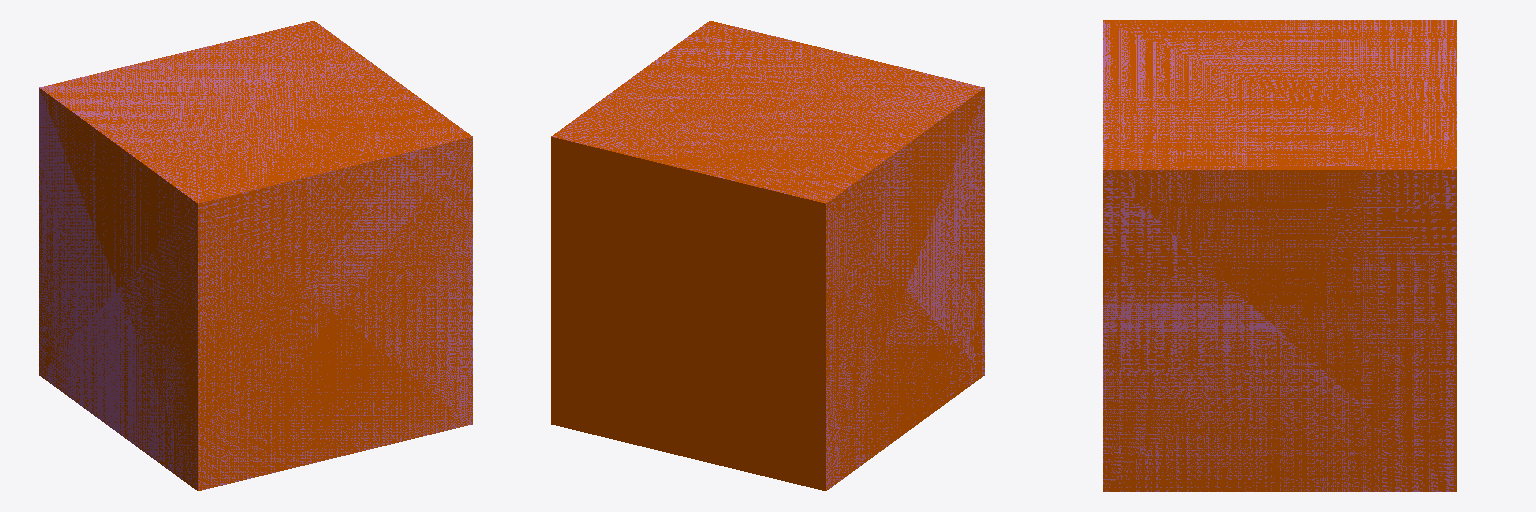
robot.urdf — mechROS:
<?xml version="1.0" ?>
<!-- =================================================================================== -->
<!-- |    This document was autogenerated by xacro from mechROS.xacro                  | -->
<!-- |    EDITING THIS FILE BY HAND IS NOT RECOMMENDED                                 | -->
<!-- =================================================================================== -->
<robot name="mechROS" xmlns:xacro="http://www.ros.org/wiki/xacro">
  <!-- PROPERTIES & MACROS -->
  <!-- ////////////////////////////////////////////////// -->
  <!-- MATERIALS -->
  <!-- ////////////////////////////////////////////////// -->
  <material name="camera_color">
    <color rgba=".01 1 .5 1"/>
  </material>
  <!--<material name="tire_texture">-->
  <!--    <texture filename="package://robot_description/textures/rubber.jpg" />-->
  <!--</material>-->
  <!-- Import files -->
  <material name="tire_texture">
    <texture filename="file://[local-path]/catkin_ws/src/mech_ros/robot_description/textures/rubber.jpg"/>
  </material>
  <!-- skid steering plugin -->
  <!--	<xacro:macro name="skid_steering" params="broadcastOdomTF prefix wheelSeparation wheelDiameter">-->
  <!--    <gazebo>-->
  <!--      <plugin name="skid_steer_drive_controller" filename="libgazebo_ros_skid_steer_drive.so">-->
  <!--         <robotNamespace>/mechROS</robotNamespace>-->
  <!--		    <updateRate>100.0</updateRate>-->
  <!--		    <leftFrontJoint>front_left_wheel_joint</leftFrontJoint>  -->
  <!--		    <rightFrontJoint>front_right_wheel_joint</rightFrontJoint>-->
  <!--		    <leftRearJoint>back_left_wheel_joint</leftRearJoint>-->
  <!--		    <rightRearJoint>back_right_wheel_joint</rightRearJoint>-->
  <!--		    <wheelSeparation>${wheelSeparation}</wheelSeparation>-->
  <!--		    <wheelDiameter>${wheelDiameter}</wheelDiameter>-->
  <!--		    <robotBaseFrame>${prefix}base_link</robotBaseFrame>-->
  <!--		    <torque>50</torque>-->
  <!--		    <commandTopic>control/cmd_vel</commandTopic>-->
  <!--		    <odometryTopic>control/odom</odometryTopic>-->
  <!--		    <odometryFrame>/odom</odometryFrame>-->
  <!--		    <odometryFrame>${prefix}odom</odometryFrame>-->
  <!--		    <broadcastTF>${broadcastOdomTF}</broadcastTF>-->
  <!--      </plugin>-->
  <!--    </gazebo>-->
  <!--  </xacro:macro>-->
  <!--  -->
  <!--  <xacro:macro name="omni_steering" params="prefix publish_tf">-->
  <!--		<gazebo>-->
  <!--	    <plugin name="omni_steering" filename="libgazebo_ros_planar_move.so">-->
  <!--	      <commandTopic>robotnik_base_control/cmd_vel</commandTopic>  -->
  <!--	      <odometryTopic>robotnik_base_control/odom</odometryTopic>-->
  <!--	      <odometryFrame>${prefix}odom</odometryFrame>-->
  <!--	      <odometryRate>50.0</odometryRate>-->
  <!--	      <robotBaseFrame>${prefix}base_footprint</robotBaseFrame>-->
  <!--	      <publishTF>${publish_tf}</publishTF>-->
  <!--	    </plugin>-->
  <!--	  </gazebo>-->
  <!--  </xacro:macro>-->
  <!--  <xacro:macro name="ros_force_based_move" params="publish_tf prefix">-->
  <!--	  <gazebo>-->
  <!--		 <plugin name="ros_force_based_move" filename="libgazebo_ros_force_based_move.so">-->
  <!--			 <commandTopic>robotnik_base_control/cmd_vel</commandTopic>  -->
  <!--			 <odometryTopic>robotnik_base_control/odom</odometryTopic>-->
  <!--	         <odometryFrame>${prefix}odom</odometryFrame>-->
  <!--			 <yaw_velocity_p_gain>10000.0</yaw_velocity_p_gain>-->
  <!--			 <x_velocity_p_gain>10000.0</x_velocity_p_gain>-->
  <!--			 <y_velocity_p_gain>10000.0</y_velocity_p_gain>-->
  <!--			 <robotBaseFrame>${prefix}base_footprint</robotBaseFrame>-->
  <!--			 <odometryRate>50.0</odometryRate>-->
  <!--			 <publishOdometryTf>${publish_tf}</publishOdometryTf>-->
  <!--		 </plugin>-->
  <!--	  </gazebo>-->
  <!--  </xacro:macro>-->
  <!--  <gazebo reference="base_footprint">-->
  <!--    <material>Gazebo/Green</material>-->
  <!--  </gazebo>-->
  <!-- This file unifies all sensors that can be used on simulation, defined as xacro:macros -->
  <material name="gray_color">
    <color rgba=".75 .75 .75 1"/>
  </material>
  <!-- LINKS -->
  <!-- ////////////////////////////////////////////////// -->
  <link name="mechROS_base_link">
    <visual>
      <origin rpy="1.57079632679 0 1.57079632679" xyz="0.011 -0.060276 0"/>
      <geometry>
        <!--        <mesh filename="package://robot_description/meshes/Chassis.stl"/>-->
        <mesh filename="file://[local-path]/catkin_ws/src/mech_ros/robot_description/meshes/Chassis_10000.stl" scale="0.01 0.01 0.01"/>
        <!--	<cylinder length="0.2" radius="0.4" />-->
      </geometry>
      <material name="gray_color"/>
    </visual>
    <collision>
      <origin rpy="0 0 0" xyz="0.008 0 0.023"/>
      <geometry>
        <box size="0.242 0.11 0.085"/>
      </geometry>
    </collision>
    <!-- !!!!!!!!!!!!!!!!!!!-->
    <!--NASTAVAIT SPRAVNE INERTIAL-->
    <inertial>
      <origin xyz="0 0 0.02"/>
      <mass value="1.172"/>
      <!--	<mass value="1" />-->
      <inertia ixx="0.001568" ixy="0.0" ixz="0.0" iyy="0.003775" iyz="0.0" izz="0.00483"/>
    </inertial>
  </link>
  <gazebo reference="mechROS_base_link">
    <material>Gazebo/GreyGradientSky</material>
    <turnGravityOff>false</turnGravityOff>
  </gazebo>
  <!-- *************** -->
  <!-- Robots Elements -->
  <!-- *************** -->
  <!--WHEEL TIRE -->
  <joint name="front_right_wheel_joint" type="continuous">
    <parent link="mechROS_base_link"/>
    <child link="front_right_wheel"/>
    <origin rpy="0 0 0" xyz="0.063 -0.0735 0.018"/>
    <axis rpy="0 0 0" xyz="0 1 0"/>
    <limit effort="100" velocity="100"/>
    <joint_properties damping="0.0" friction="0.0"/>
  </joint>
  <link name="front_right_wheel">
    <visual>
      <origin rpy="1.57079632679 0 0" xyz="0 -0.003 0"/>
      <geometry>
        <mesh filename="file://[local-path]/catkin_ws/src/mech_ros/robot_description/meshes/Wheel_hub_simplified.stl" scale="0.01 0.01 0.01"/>
        <!--	<cylinder length="${wheel_height}" radius="${wheel_radius}" />-->
      </geometry>
      <material name="tire_texture"/>
    </visual>
    <collision>
      <origin rpy="1.57079632679 0 0" xyz="0 -0.003 0"/>
      <geometry>
        <cylinder length="0.031" radius="0.05"/>
      </geometry>
    </collision>
    <inertial>
      <mass value="0.079"/>
      <origin rpy="0 0 0" xyz="0 -0.003 0"/>
      <origin xyz="0 0 0"/>
      <!--        <inertia  ixx="0.000049044" ixy = "0" ixz = "0"-->
      <!--              iyy="0.000083396" iyz = "0"-->
      <!--              izz="0.000048972" />-->
      <inertia ixx="0.00069" ixy="0" ixz="0" iyy="0.0012057" iyz="0" izz="0.00069"/>
    </inertial>
  </link>
  <!-- Transmission is important to link the joints and the controller (see summit_xl_control/config/summit_xl_control.yaml)-->
  <transmission name="front_right_wheel_joint_trans">
    <type>transmission_interface/SimpleTransmission</type>
    <joint name="front_right_wheel_joint">
      <hardwareInterface>hardware_interface/VelocityJointInterface</hardwareInterface>
    </joint>
    <actuator name="front_right_wheel_joint_motor">
      <mechanicalReduction>1</mechanicalReduction>
      <motorTorqueConstant>20</motorTorqueConstant>
    </actuator>
  </transmission>
  <gazebo reference="front_right_wheel">
    <mu1 value="1.0"/>
    <mu2 value="1.0"/>
    <kp value="10000000.0"/>
    <kd value="1.0"/>
    <fdir1 value="1 0 0"/>
    <material>Gazebo/Residential</material>
    <turnGravityOff>false</turnGravityOff>
  </gazebo>
  <!--WHEEL TIRE -->
  <joint name="front_left_wheel_joint" type="continuous">
    <parent link="mechROS_base_link"/>
    <child link="front_left_wheel"/>
    <origin rpy="0 0 0" xyz="0.063 0.0735 0.018"/>
    <axis rpy="0 0 0" xyz="0 1 0"/>
    <limit effort="100" velocity="100"/>
    <joint_properties damping="0.0" friction="0.0"/>
  </joint>
  <link name="front_left_wheel">
    <visual>
      <origin rpy="-1.57079632679 0 0" xyz="0 0.003 0"/>
      <geometry>
        <mesh filename="file://[local-path]/catkin_ws/src/mech_ros/robot_description/meshes/Wheel_hub_simplified.stl" scale="0.01 0.01 0.01"/>
        <!--	<cylinder length="${wheel_height}" radius="${wheel_radius}" />-->
      </geometry>
      <material name="tire_texture"/>
    </visual>
    <collision>
      <origin rpy="1.57079632679 0 0" xyz="0 0.003 0"/>
      <geometry>
        <cylinder length="0.031" radius="0.05"/>
      </geometry>
    </collision>
    <inertial>
      <mass value="0.079"/>
      <origin rpy="0 0 0" xyz="0 0.003 0"/>
      <origin xyz="0 0 0"/>
      <!--        <inertia  ixx="0.000049044" ixy = "0" ixz = "0"-->
      <!--              iyy="0.000083396" iyz = "0"-->
      <!--              izz="0.000048972" />-->
      <inertia ixx="0.00069" ixy="0" ixz="0" iyy="0.0012057" iyz="0" izz="0.00069"/>
    </inertial>
  </link>
  <!-- Transmission is important to link the joints and the controller (see summit_xl_control/config/summit_xl_control.yaml)-->
  <transmission name="front_left_wheel_joint_trans">
    <type>transmission_interface/SimpleTransmission</type>
    <joint name="front_left_wheel_joint">
      <hardwareInterface>hardware_interface/VelocityJointInterface</hardwareInterface>
    </joint>
    <actuator name="front_left_wheel_joint_motor">
      <mechanicalReduction>1</mechanicalReduction>
      <motorTorqueConstant>20</motorTorqueConstant>
    </actuator>
  </transmission>
  <gazebo reference="front_left_wheel">
    <mu1 value="1.0"/>
    <mu2 value="1.0"/>
    <kp value="10000000.0"/>
    <kd value="1.0"/>
    <fdir1 value="1 0 0"/>
    <material>Gazebo/Residential</material>
    <turnGravityOff>false</turnGravityOff>
  </gazebo>
  <!--WHEEL TIRE -->
  <joint name="back_left_wheel_joint" type="continuous">
    <parent link="mechROS_base_link"/>
    <child link="back_left_wheel"/>
    <origin rpy="0 0 0" xyz="-0.063 0.0735 0.018"/>
    <axis rpy="0 0 0" xyz="0 1 0"/>
    <limit effort="100" velocity="100"/>
    <joint_properties damping="0.0" friction="0.0"/>
  </joint>
  <link name="back_left_wheel">
    <visual>
      <origin rpy="-1.57079632679 0 0" xyz="0 0.003 0"/>
      <geometry>
        <mesh filename="file://[local-path]/catkin_ws/src/mech_ros/robot_description/meshes/Wheel_hub_simplified.stl" scale="0.01 0.01 0.01"/>
        <!--	<cylinder length="${wheel_height}" radius="${wheel_radius}" />-->
      </geometry>
      <material name="tire_texture"/>
    </visual>
    <collision>
      <origin rpy="1.57079632679 0 0" xyz="0 0.003 0"/>
      <geometry>
        <cylinder length="0.031" radius="0.05"/>
      </geometry>
    </collision>
    <inertial>
      <mass value="0.079"/>
      <origin rpy="0 0 0" xyz="0 0.003 0"/>
      <origin xyz="0 0 0"/>
      <!--        <inertia  ixx="0.000049044" ixy = "0" ixz = "0"-->
      <!--              iyy="0.000083396" iyz = "0"-->
      <!--              izz="0.000048972" />-->
      <inertia ixx="0.00069" ixy="0" ixz="0" iyy="0.0012057" iyz="0" izz="0.00069"/>
    </inertial>
  </link>
  <!-- Transmission is important to link the joints and the controller (see summit_xl_control/config/summit_xl_control.yaml)-->
  <transmission name="back_left_wheel_joint_trans">
    <type>transmission_interface/SimpleTransmission</type>
    <joint name="back_left_wheel_joint">
      <hardwareInterface>hardware_interface/VelocityJointInterface</hardwareInterface>
    </joint>
    <actuator name="back_left_wheel_joint_motor">
      <mechanicalReduction>1</mechanicalReduction>
      <motorTorqueConstant>20</motorTorqueConstant>
    </actuator>
  </transmission>
  <gazebo reference="back_left_wheel">
    <mu1 value="1.0"/>
    <mu2 value="1.0"/>
    <kp value="10000000.0"/>
    <kd value="1.0"/>
    <fdir1 value="1 0 0"/>
    <material>Gazebo/Residential</material>
    <turnGravityOff>false</turnGravityOff>
  </gazebo>
  <!--WHEEL TIRE -->
  <joint name="back_right_wheel_joint" type="continuous">
    <parent link="mechROS_base_link"/>
    <child link="back_right_wheel"/>
    <origin rpy="0 0 0" xyz="-0.063 -0.0735 0.018"/>
    <axis rpy="0 0 0" xyz="0 1 0"/>
    <limit effort="100" velocity="100"/>
    <joint_properties damping="0.0" friction="0.0"/>
  </joint>
  <link name="back_right_wheel">
    <visual>
      <origin rpy="1.57079632679 0 0" xyz="0 -0.003 0"/>
      <geometry>
        <mesh filename="file://[local-path]/catkin_ws/src/mech_ros/robot_description/meshes/Wheel_hub_simplified.stl" scale="0.01 0.01 0.01"/>
        <!--	<cylinder length="${wheel_height}" radius="${wheel_radius}" />-->
      </geometry>
      <material name="tire_texture"/>
    </visual>
    <collision>
      <origin rpy="1.57079632679 0 0" xyz="0 -0.003 0"/>
      <geometry>
        <cylinder length="0.031" radius="0.05"/>
      </geometry>
    </collision>
    <inertial>
      <mass value="0.079"/>
      <origin rpy="0 0 0" xyz="0 -0.003 0"/>
      <origin xyz="0 0 0"/>
      <!--        <inertia  ixx="0.000049044" ixy = "0" ixz = "0"-->
      <!--              iyy="0.000083396" iyz = "0"-->
      <!--              izz="0.000048972" />-->
      <inertia ixx="0.00069" ixy="0" ixz="0" iyy="0.0012057" iyz="0" izz="0.00069"/>
    </inertial>
  </link>
  <!-- Transmission is important to link the joints and the controller (see summit_xl_control/config/summit_xl_control.yaml)-->
  <transmission name="back_right_wheel_joint_trans">
    <type>transmission_interface/SimpleTransmission</type>
    <joint name="back_right_wheel_joint">
      <hardwareInterface>hardware_interface/VelocityJointInterface</hardwareInterface>
    </joint>
    <actuator name="back_right_wheel_joint_motor">
      <mechanicalReduction>1</mechanicalReduction>
      <motorTorqueConstant>20</motorTorqueConstant>
    </actuator>
  </transmission>
  <gazebo reference="back_right_wheel">
    <mu1 value="1.0"/>
    <mu2 value="1.0"/>
    <kp value="10000000.0"/>
    <kd value="1.0"/>
    <fdir1 value="1 0 0"/>
    <material>Gazebo/Residential</material>
    <turnGravityOff>false</turnGravityOff>
  </gazebo>
  <joint name="imu_joint" type="fixed">
    <axis xyz="1 0 0"/>
    <origin rpy="0 0 0" xyz="0 0.0 0.055"/>
    <parent link="mechROS_base_link"/>
    <child link="imu_link"/>
  </joint>
  <link name="imu_link">
    <inertial>
      <mass value="0.001"/>
      <origin rpy="0 0 0" xyz="0 0 0"/>
      <inertia ixx="0.0001" ixy="0" ixz="0" iyy="0.000001" iyz="0" izz="0.0001"/>
    </inertial>
    <visual>
      <origin rpy="0 0 0" xyz="0 0 0"/>
      <geometry>
        <box size="0.001 0.001 0.001"/>
      </geometry>
    </visual>
    <collision>
      <origin rpy="0 0 0" xyz="0 0 0"/>
      <geometry>
        <box size=".001 .001 .001"/>
      </geometry>
    </collision>
  </link>
  <gazebo>
    <plugin filename="libhector_gazebo_ros_imu.so" name="imu_controller">
      <alwaysOn>true</alwaysOn>
      <topicName>imu/data_raw</topicName>
      <serviceName>imu/service_raw</serviceName>
      <bodyName>imu_link</bodyName>
      <frameId>imu_link</frameId>
      <updateRate>50.0</updateRate>
      <gaussianNoise>0.01</gaussianNoise>
      <!-- orientation parameters -->
      <yawOffset>0.0</yawOffset>
      <!--<yawOffset>0.0</yawOffset>-->
      <yawDrift>0.005</yawDrift>
      <!--<yawDrift>0.0</yawDrift>-->
      <yawGaussianNoise>0.005</yawGaussianNoise>
      <!--<yawGaussianNoise>0.0004</yawGaussianNoise>-->
      <!-- angular velocities parameters -->
      <rateOffset>0.0 0.0 0.0</rateOffset>
      <rateDrift>0.005 0.005 0.005</rateDrift>
      <!--<rateDrift>0.0 0.0 0.0</rateDrift>-->
      <rateGaussianNoise>0.005 0.005 0.005</rateGaussianNoise>
      <!--<rateGaussianNoise>0.004 0.004 0.004</rateGaussianNoise>-->
      <!-- linear accelerations parameters -->
      <accelOffset>0.0 0.0 0.0</accelOffset>
      <accelDrift>0.005 0.005 0.005</accelDrift>
      <!--<accelDrift>0.0 0.0 0.0</accelDrift>-->
      <accelGaussianNoise>0.05 0.05 0.05</accelGaussianNoise>
      <!--<accelGaussianNoise>0.004 0.004 0.004</accelGaussianNoise>-->
    </plugin>
  </gazebo>
  <joint name="imu_magnetic_joint" type="fixed">
    <axis xyz="1 0 0"/>
    <origin rpy="0 -1.5707963267 1.5707963267" xyz="0 0 0"/>
    <parent link="imu_link"/>
    <child link="imu_magnetic_link"/>
  </joint>
  <link name="imu_magnetic_link">
    <inertial>
      <mass value="0.001"/>
      <origin rpy="0 0 0" xyz="0 0 0"/>
      <inertia ixx="0.0001" ixy="0" ixz="0" iyy="0.000001" iyz="0" izz="0.0001"/>
    </inertial>
    <visual>
      <origin rpy="0 0 0" xyz="0 0 0"/>
      <geometry>
        <box size="0.001 0.001 0.001"/>
      </geometry>
    </visual>
    <collision>
      <origin rpy="0 0 0" xyz="0 0 0"/>
      <geometry>
        <box size=".001 .001 .001"/>
      </geometry>
    </collision>
  </link>
  <gazebo>
    <plugin filename="libhector_gazebo_ros_magnetic.so" name="magnetic_controller">
      <alwaysOn>true</alwaysOn>
      <topicName>imu/mag</topicName>
      <serviceName>imu/mag/service</serviceName>
      <bodyName>imu_magnetic_link</bodyName>
      <frameId>imu_magnetic_link</frameId>
      <updateRate>50.0</updateRate>
      <gaussianNoise>0.005 0.005 0.005</gaussianNoise>
      <!-- orientation parameters -->
      <offset>0.0 0.0 0.0</offset>
      <!--           <offset>0.0 0.0 0.0</offset>-->
      <magnitude>1.0</magnitude>
      <!--		<magnitude>1.0</magnitude>-->
      <!-- <referenceHeading>1.5707963267</referenceHeading> -->
      <referenceHeading>0.0</referenceHeading>
      <declination>0.0</declination>
      <!--		<declination>0.0</declination>-->
      <inclination>60.0</inclination>
      <!--		<inclination>0.0</inclination>-->
      <drift>0.005 0.005 0.005</drift>
      <!--		<drift>0.001 0.001 0.001</drift>-->
      <driftFrequency>0.0001 0.0001 0.0001</driftFrequency>
      <!--		<driftFrequency>0.1 0.1 0.1</driftFrequency>-->
    </plugin>
  </gazebo>
  <!-- camera body, with origin at bottom screw mount -->
  <joint name="front_camera_joint" type="fixed">
    <origin rpy="0 0 0" xyz="0.088 0 0.0204"/>
    <parent link="mechROS_base_link"/>
    <child link="front_camera_link"/>
  </joint>
  <link name="front_camera_link">
    <visual>
      <!--     <origin xyz="0 0 0" rpy="0 ${PI/2} 0"/>-->
      <origin rpy="0 -1.57079632679 3.14159265359" xyz="0 0 0"/>
      <geometry>
        <mesh filename="file://[local-path]/catkin_ws/src/mech_ros/robot_description/meshes/Camera_2000_simplified.stl" scale="0.01 0.01 0.01"/>
      </geometry>
      <material name="camera_color"/>
    </visual>
    <collision>
      <origin rpy="0 0 0" xyz="-0.0125 0.0 0.0"/>
      <geometry>
        <box size="0.025 0.1 0.025"/>
      </geometry>
    </collision>
    <inertial>
      <!-- The following are not reliable values, and should not be used for modeling -->
      <mass value="0.01064"/>
      <origin xyz="0 0 0"/>
      <inertia ixx="0.00003881243" ixy="0.0" ixz="0.0" iyy="0.00000498940" iyz="0.0" izz="0.00003879257"/>
    </inertial>
  </link>
  <!-- camera -->
  <gazebo reference="front_camera_link">
    <sensor name="camera1" type="camera">
      <update_rate>30.0</update_rate>
      <camera name="head">
        <horizontal_fov>1.3962634</horizontal_fov>
        <image>
          <width>1280</width>
          <height>720</height>
          <format>R8G8B8</format>
        </image>
        <clip>
          <near>0.02</near>
          <far>300</far>
        </clip>
        <noise>
          <type>gaussian</type>
          <!-- Noise is sampled independently per pixel on each frame.
               That pixel's noise value is added to each of its color
               channels, which at that point lie in the range [0,1]. -->
          <mean>0.0</mean>
          <stddev>0.007</stddev>
        </noise>
      </camera>
      <plugin filename="libgazebo_ros_camera.so" name="camera_controller">
        <alwaysOn>true</alwaysOn>
        <updateRate>0.0</updateRate>
        <cameraName>pi_camera</cameraName>
        <imageTopicName>image_raw</imageTopicName>
        <cameraInfoTopicName>camera_info</cameraInfoTopicName>
        <frameName>front_camera_link</frameName>
        <hackBaseline>0.07</hackBaseline>
        <distortionK1>0.0</distortionK1>
        <distortionK2>0.0</distortionK2>
        <distortionK3>0.0</distortionK3>
        <distortionT1>0.0</distortionT1>
        <distortionT2>0.0</distortionT2>
      </plugin>
    </sensor>
    <material>Gazebo/Grass</material>
  </gazebo>
  <link name="laser_link">
	</link>
  <joint name="laser_joint" type="fixed">
    <parent link="mechROS_base_link"/>
    <child link="laser_link"/>
    <origin rpy="0 0 0" xyz="0.00 0 0.0804"/>
  </joint>
  <joint name="laser_base_joint" type="fixed">
    <origin rpy="0 0 0" xyz="0.00 0 -0.05"/>
    <parent link="laser_link"/>
    <child link="laser_base_link"/>
  </joint>
  <link name="laser_base_link">
    <collision>
      <origin rpy="0 0 0" xyz="0 0 0.0"/>
      <geometry>
        <box size="0.010 0.010 0.010"/>
      </geometry>
    </collision>
    <visual>
      <origin rpy="0 0 0" xyz="0 0 0.0"/>
      <geometry>
        <mesh filename="file://[local-path]/catkin_ws/src/mech_ros/robot_description/sensors/meshes/hokuyo_ust_10lx.dae"/>
      </geometry>
    </visual>
    <inertial>
      <mass value="1e-5"/>
      <origin rpy="0 0 0" xyz="0 0 0"/>
      <inertia ixx="1e-6" ixy="0" ixz="0" iyy="1e-6" iyz="0" izz="1e-6"/>
    </inertial>
  </link>
  <gazebo reference="laser_link">
    <sensor name="laser_sensor" type="gpu_ray">
      <pose>0 0 0 0 0 0</pose>
      <visualize>false</visualize>
      <update_rate>40</update_rate>
      <ray>
        <scan>
          <horizontal>
            <samples>1081</samples>
            <resolution>1</resolution>
            <min_angle>-2.3562</min_angle>
            <max_angle>2.3562</max_angle>
          </horizontal>
        </scan>
        <range>
          <min>0.06</min>
          <max>10.0</max>
          <!-- resolution>0.004363323</resolution -->
          <resolution>0.004359297</resolution>
          <!-- resolution>0.001</resolution -->
        </range>
        <noise>
          <type>gaussian</type>
          <mean>0.0</mean>
          <stddev>0.01</stddev>
        </noise>
      </ray>
      <plugin filename="libgazebo_ros_gpu_laser.so" name="laser_controller">
        <topicName>front_laser/scan</topicName>
        <frameName>/laser_link</frameName>
      </plugin>
    </sensor>
  </gazebo>
   --&gt;




  <gazebo>
    <plugin filename="libgazebo_ros_control.so" name="ros_control">
      <robotNamespace>/mechROS</robotNamespace>
      <!--		<robotParam>robot_description</robotParam>-->
      <controlPeriod>0.001</controlPeriod>
      <robotSimType>gazebo_ros_control/DefaultRobotHWSim</robotSimType>
    </plugin>
  </gazebo>
  <!--<xacro:skid_steering broadcastOdomTF="true" prefix="$(arg prefix)" wheelSeparation="$(arg wheel_offset_y)" wheelDiameter="0.01"/>-->
  <!--<link name="camera">-->
  <!--    <visual>-->
  <!--	<origin xyz="0 0 0" rpy="0 ${-PI/2} ${PI}"/>-->
  <!--     <geometry>-->
  <!--        <mesh filename="file://[local-path]/catkin_ws/src/mech_ros/robot_description/meshes/Camera.stl" scale="${Scale}"/>-->
  <!--      </geometry>-->
  <!--     <material name="camera_color"/>-->
  <!--    </visual>-->
  <!--    <collision>-->
  <!--      <origin xyz="0 0 0" rpy="0 0 0"/>-->
  <!--      <geometry>-->
  <!--        <box size="0.01 0.2 0.05"/>-->
  <!--      </geometry>-->
  <!--    </collision>-->
  <!--</link>-->
  <!-- JOINTS -->
  <!-- ////////////////////////////////////////////////// -->
  <!--<xacro:Joint_f name="Body" parent="base_link" child="camera" xyz="0.088 0 0.0204" rpy="0 0 0"/>-->
</robot>

--- Render facts (derived) ---
Views: 3 orthographic renders of the robot side by side, from view 1: azimuth 30°, elevation 25°; view 2: azimuth 150°, elevation 25°; view 3: azimuth 270°, elevation 25°.
Robot: mechROS — 10 links, 9 joints (4 continuous, 5 fixed); root link mechROS_base_link; default pose: all joints at 0.
Links seen in each view (by area): view 1: imu_link, imu_magnetic_link; view 2: imu_link, imu_magnetic_link; view 3: imu_link, imu_magnetic_link.
Link boxes in pixels (box(x1,y1,x2,y2)): imu_link: box(39, 21, 472, 490); imu_magnetic_link: box(39, 22, 472, 489); imu_link: box(551, 21, 984, 490); imu_magnetic_link: box(553, 22, 984, 488); imu_link: box(1103, 20, 1456, 491); imu_magnetic_link: box(1103, 20, 1456, 491).
Size in the robot's own frame: 0.001 by 0.001 by 0.001 metres.
Geometry: only primitive shapes (box / cylinder / sphere) drawn; not drawn: 7 mesh visuals (reference in a form the renderer does not follow).